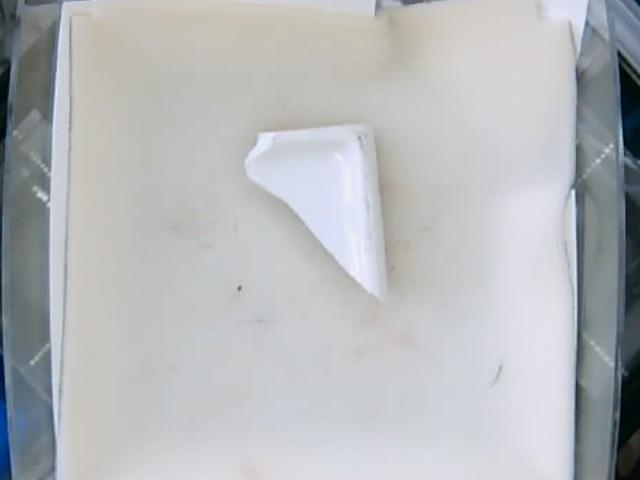China: (244, 125, 388, 303)
